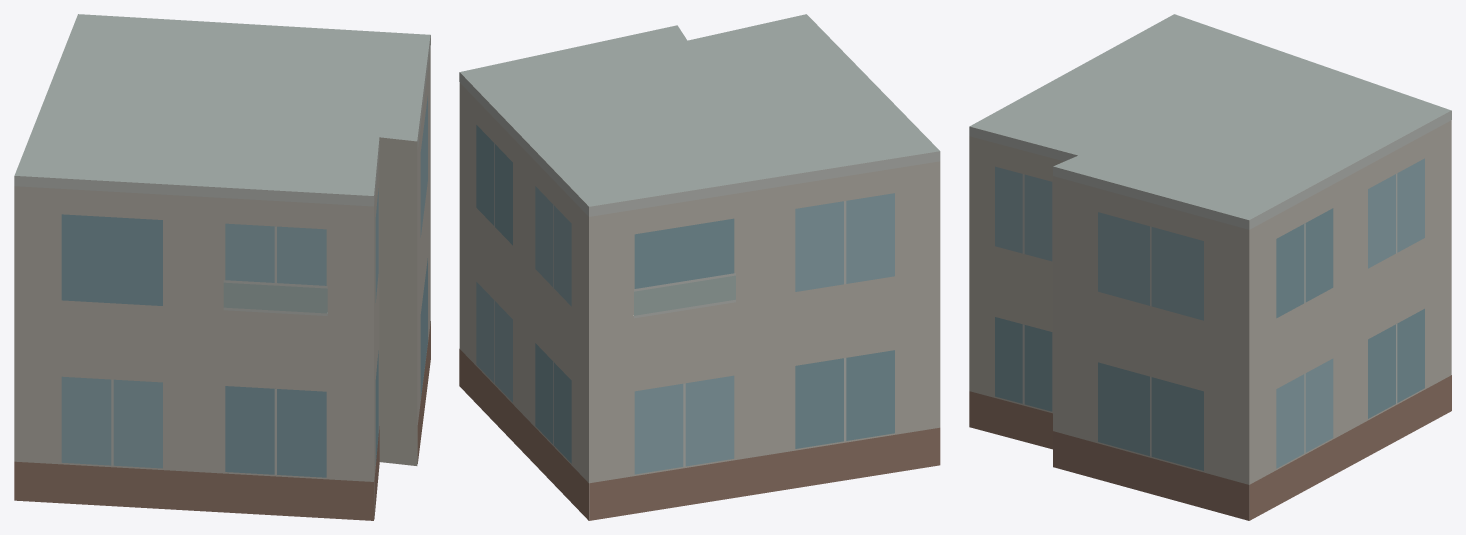
The model's file is survey-upis-32660818.glb.
The picture shows the model from 3 angles, left to right: view 1: azimuth 30°, elevation 25°; view 2: azimuth 150°, elevation 25°; view 3: azimuth 270°, elevation 25°; orthographic projection. The views are drawn at different scales.
Parts seen in each view (by area): view 1: survey-upis-32660818.tmp; view 2: survey-upis-32660818.tmp; view 3: survey-upis-32660818.tmp.
Boxes of the visible parts, left/top/right/bottom form: survey-upis-32660818.tmp: left=14, top=14, right=430, bottom=520; survey-upis-32660818.tmp: left=459, top=14, right=940, bottom=520; survey-upis-32660818.tmp: left=969, top=14, right=1451, bottom=520.
Bounding box in the file's own units: 11.19 × 7.6 × 11.06.
